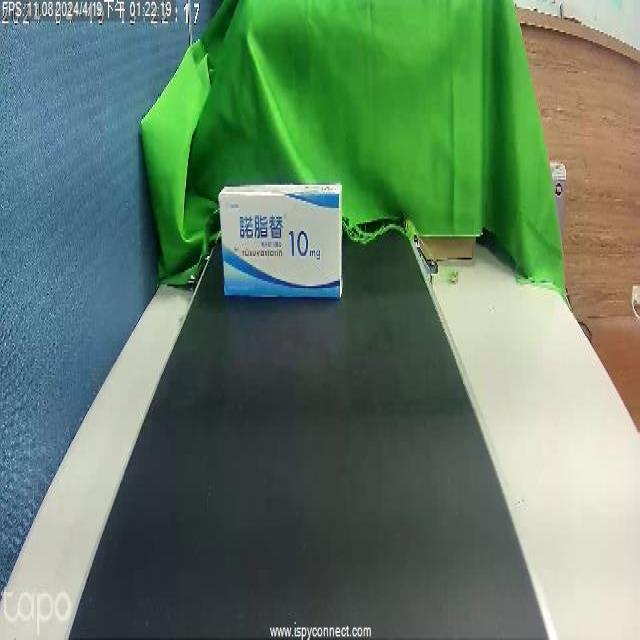box: (224, 202, 342, 303)
